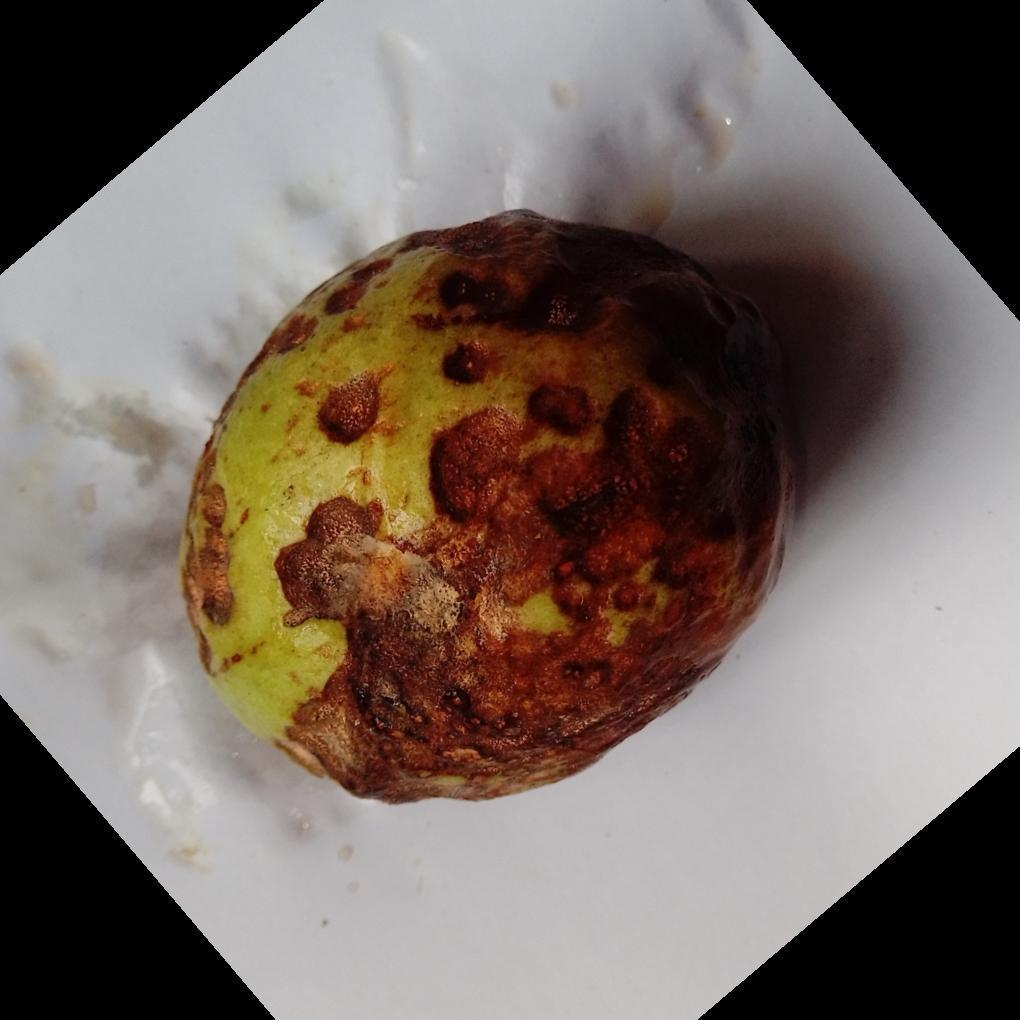FreshOrange: (177, 211, 804, 809)
